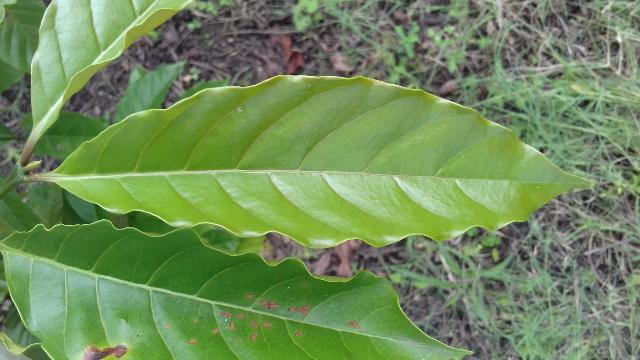healthy: (43, 65, 602, 251)
